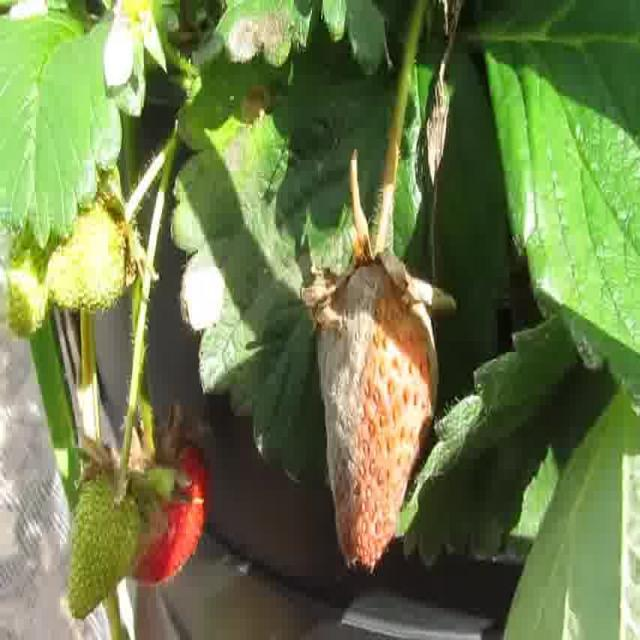Fruta sana: (313, 232, 438, 570), (70, 440, 146, 618), (128, 428, 208, 588), (46, 206, 137, 312), (8, 200, 70, 338)
